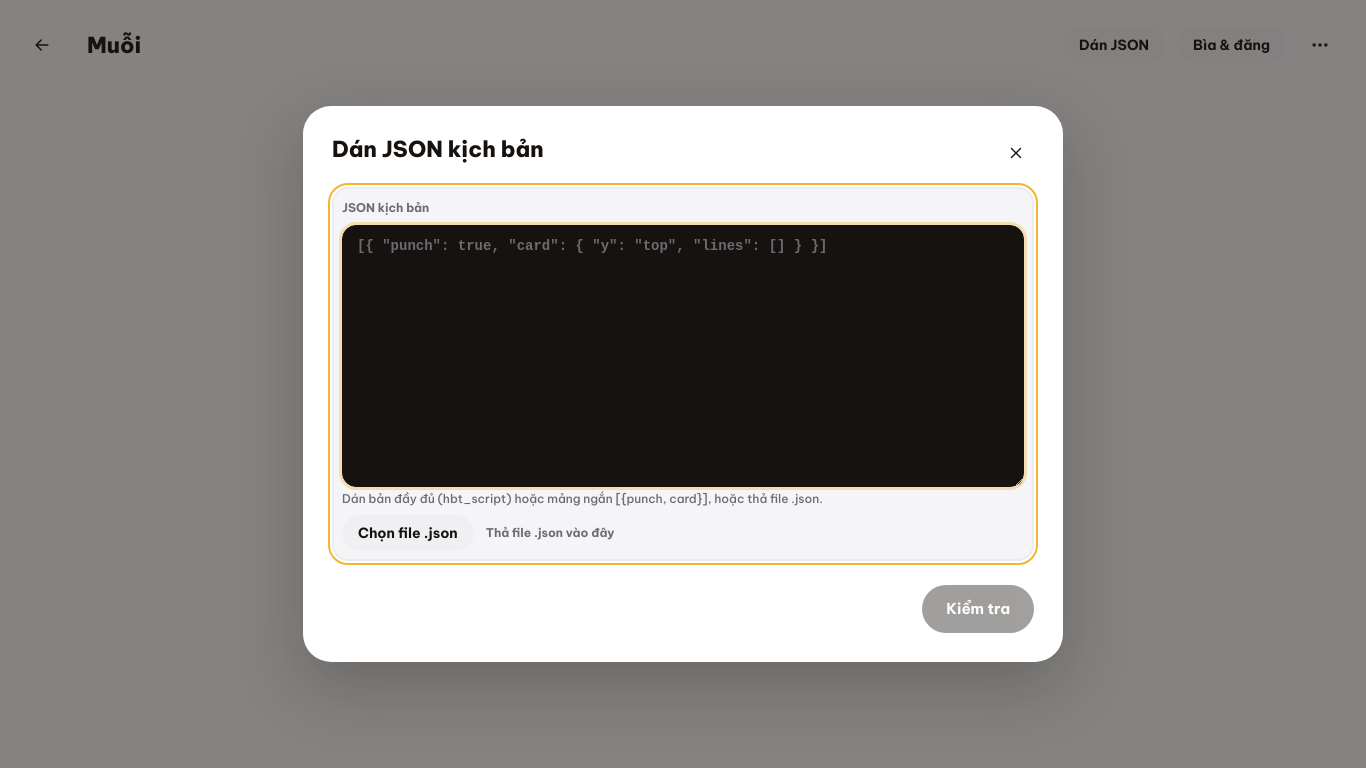
Test: PasteJsonDialog — Dán và Kiểm tra › disables Kiểm tra until there is text
The width and height of the screenshot is (1366, 768).
expect the button "Kiểm tra" is disabled: met, box [922, 585, 1034, 633]
Type "[]" into the text box labelled "JSON kịch bản". click: x=683, y=356
box: [342, 225, 1024, 487]
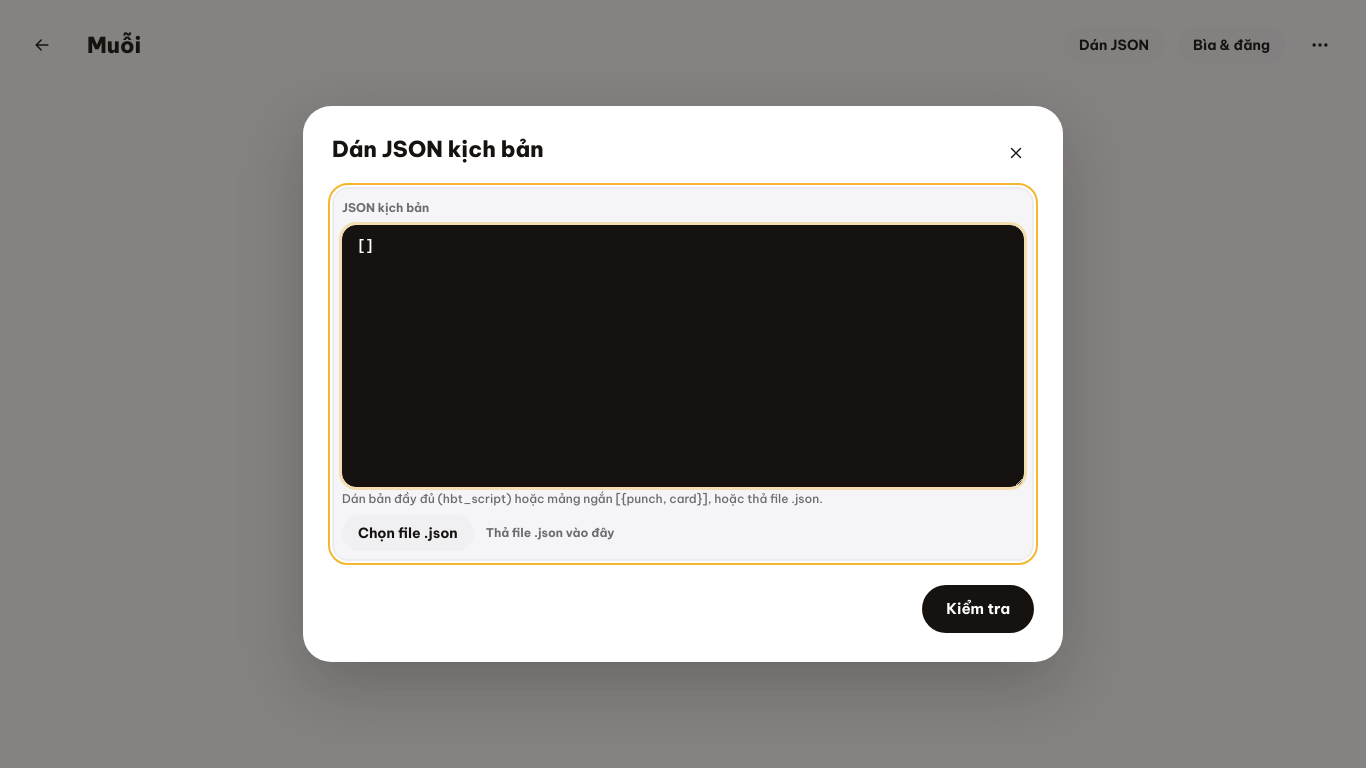
expect the button "Kiểm tra" is enabled: met, box [922, 585, 1034, 633]
